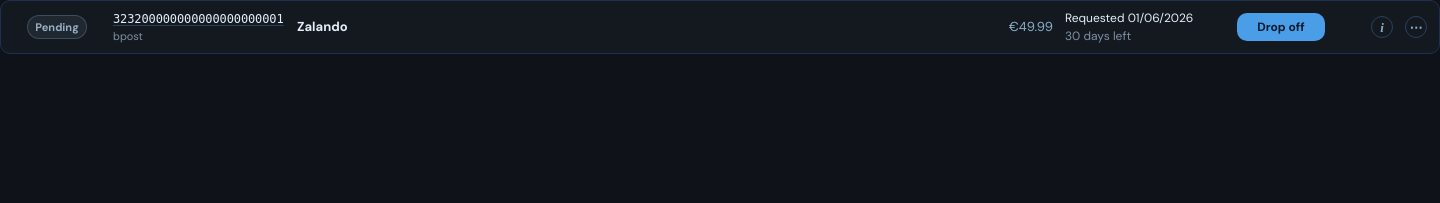
Scenario: the extra menu › opens and announces that it is open
Click the button named "more actions" at (1416, 27), box [1405,16,1427,38]
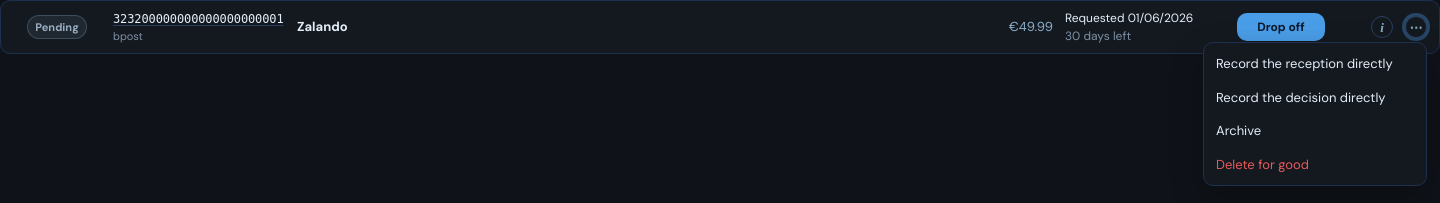
Expected: the menu is shown, [1203,42,1427,186]
Expected: the button named "more actions" is expanded, [1405,16,1427,38]
